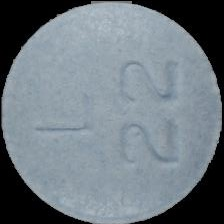55154-6281: (0, 0, 224, 224)
